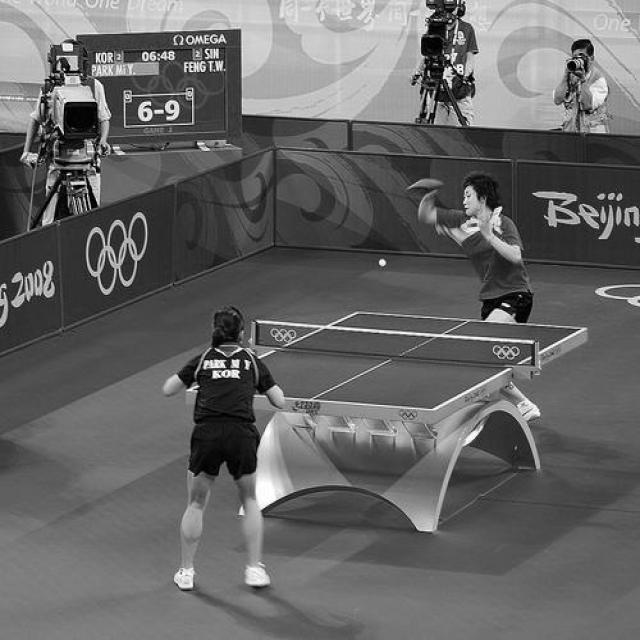ping-pong-ball: (378, 257, 388, 268)
